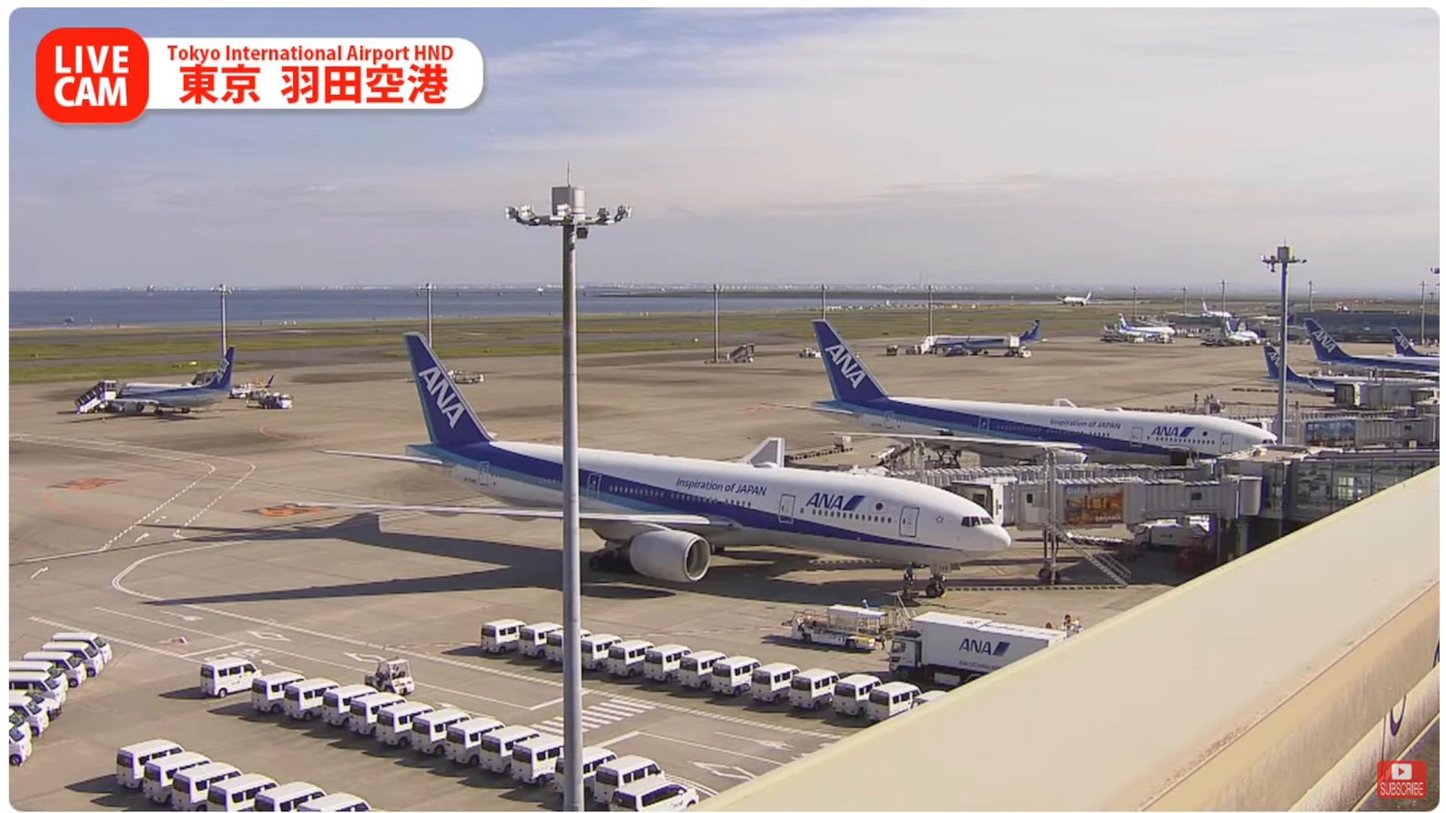Aerobridge: (913, 461, 1214, 511), (997, 481, 1218, 523)
Airplane: (298, 332, 1016, 590)
Catering: (892, 613, 1066, 687)
Skyloader: (789, 603, 885, 655)
Window: (1290, 451, 1436, 528)
